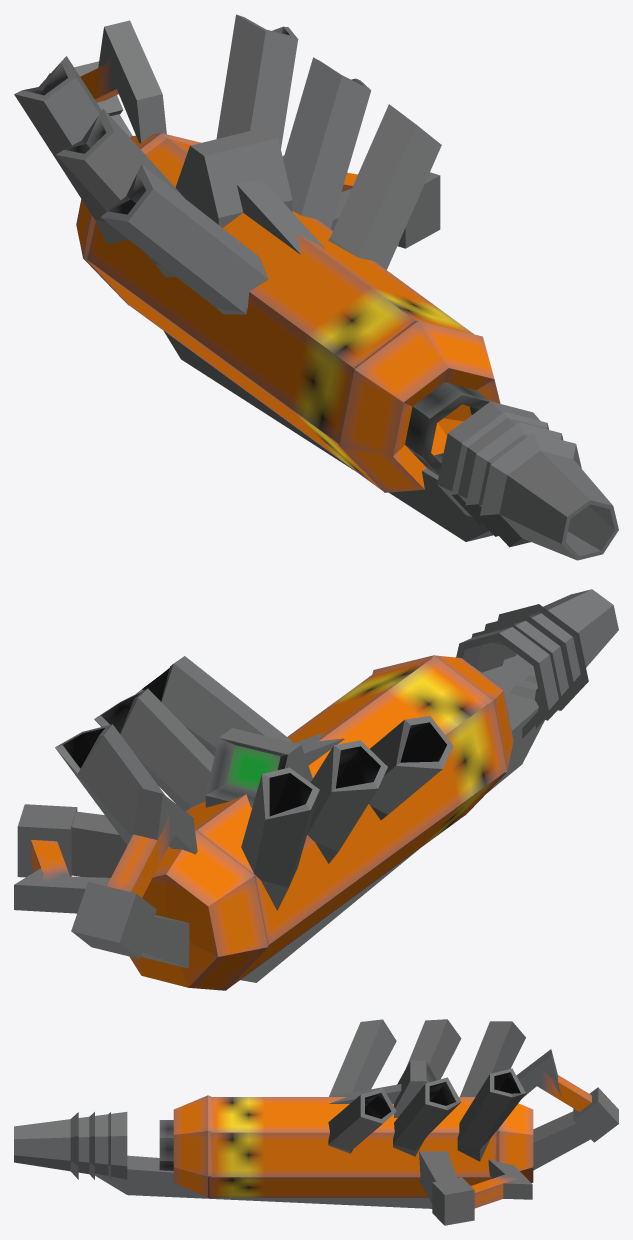
File: flamethrower.obj
The picture shows the model from 3 angles, top to bottom: view 1: azimuth 30°, elevation 25°; view 2: azimuth 150°, elevation 25°; view 3: azimuth 270°, elevation 25°; orthographic projection. The views are drawn at different scales.
Parts seen in each view (by area): view 1: flamethrower; view 2: flamethrower; view 3: flamethrower.
Boxes of the visible parts, x1,y1,x2,y2 form: flamethrower: (14,14,618,560); flamethrower: (14,589,618,990); flamethrower: (14,1019,618,1225).
Bounding box in the file's own units: 0.9981 × 0.6742 × 2.34.
Materials: 1 (1 with a texture image).
